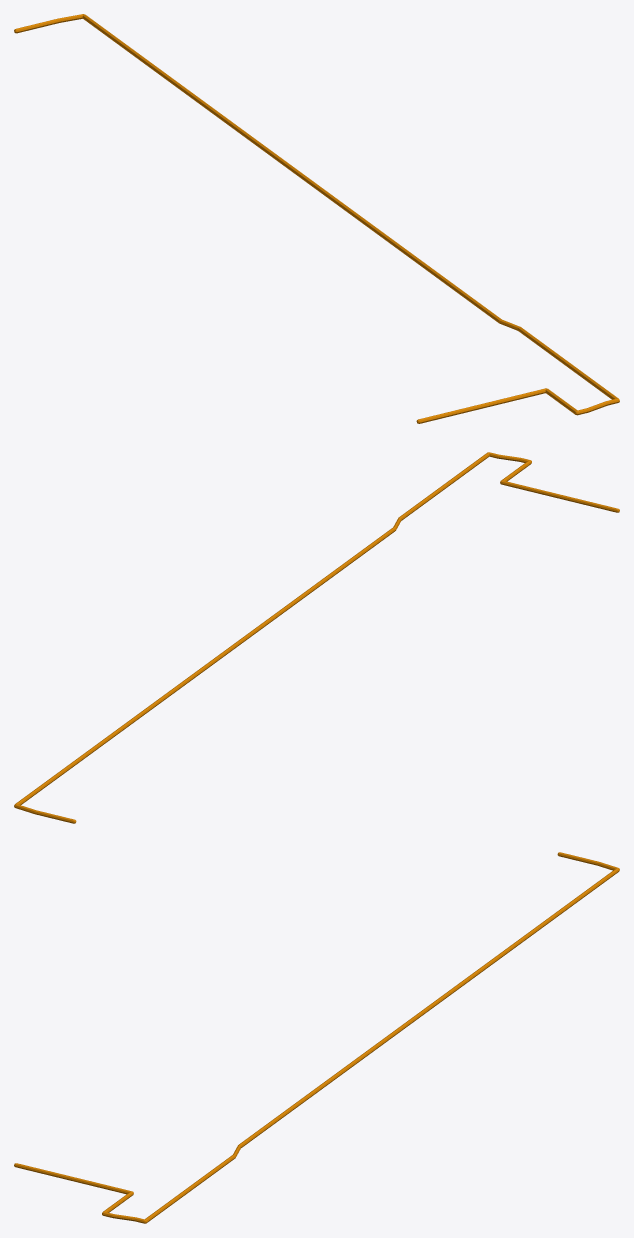
The picture shows the model from 3 angles, top to bottom: view 1: azimuth 30°, elevation 25°; view 2: azimuth 150°, elevation 25°; view 3: azimuth 330°, elevation 25°; orthographic projection. The views are drawn at different scales.
Size of the model in its own units: 822 by 20 by 4354.
